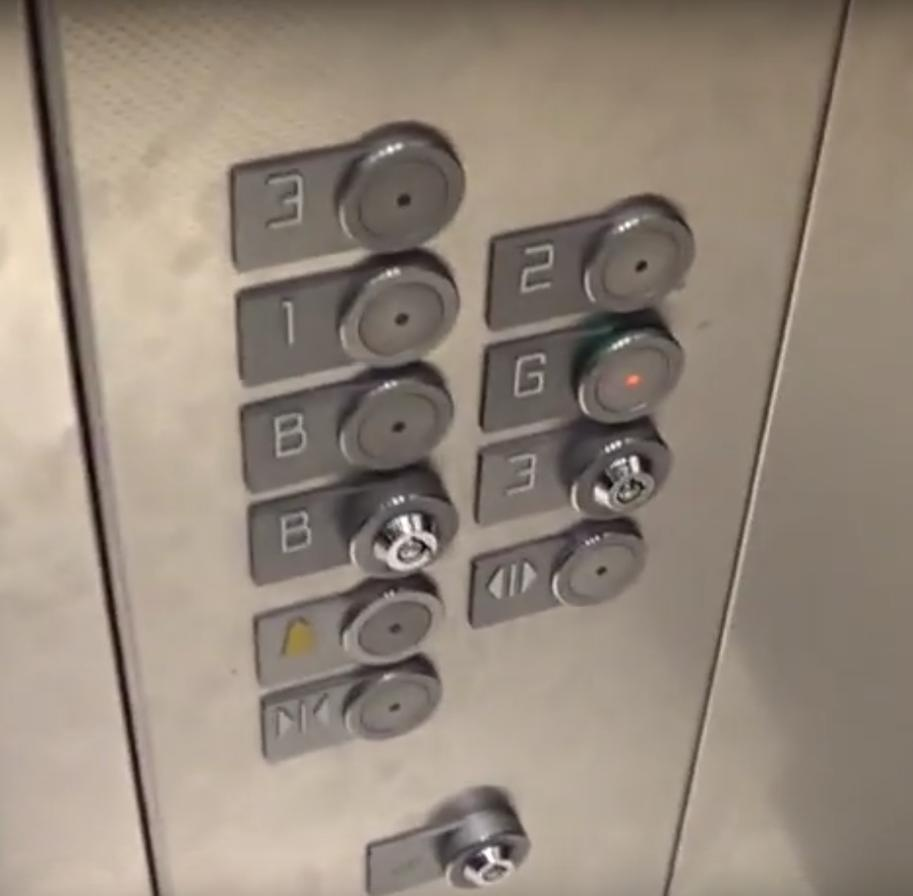1: (232, 251, 464, 391)
2: (482, 191, 698, 332)
3: (225, 117, 473, 275), (470, 418, 677, 530)
B: (235, 359, 458, 498), (243, 469, 458, 589)
G: (478, 313, 690, 435)
alarm: (249, 570, 446, 692)
blur: (362, 801, 535, 896)
close: (255, 652, 446, 772)
open: (466, 516, 649, 632)
